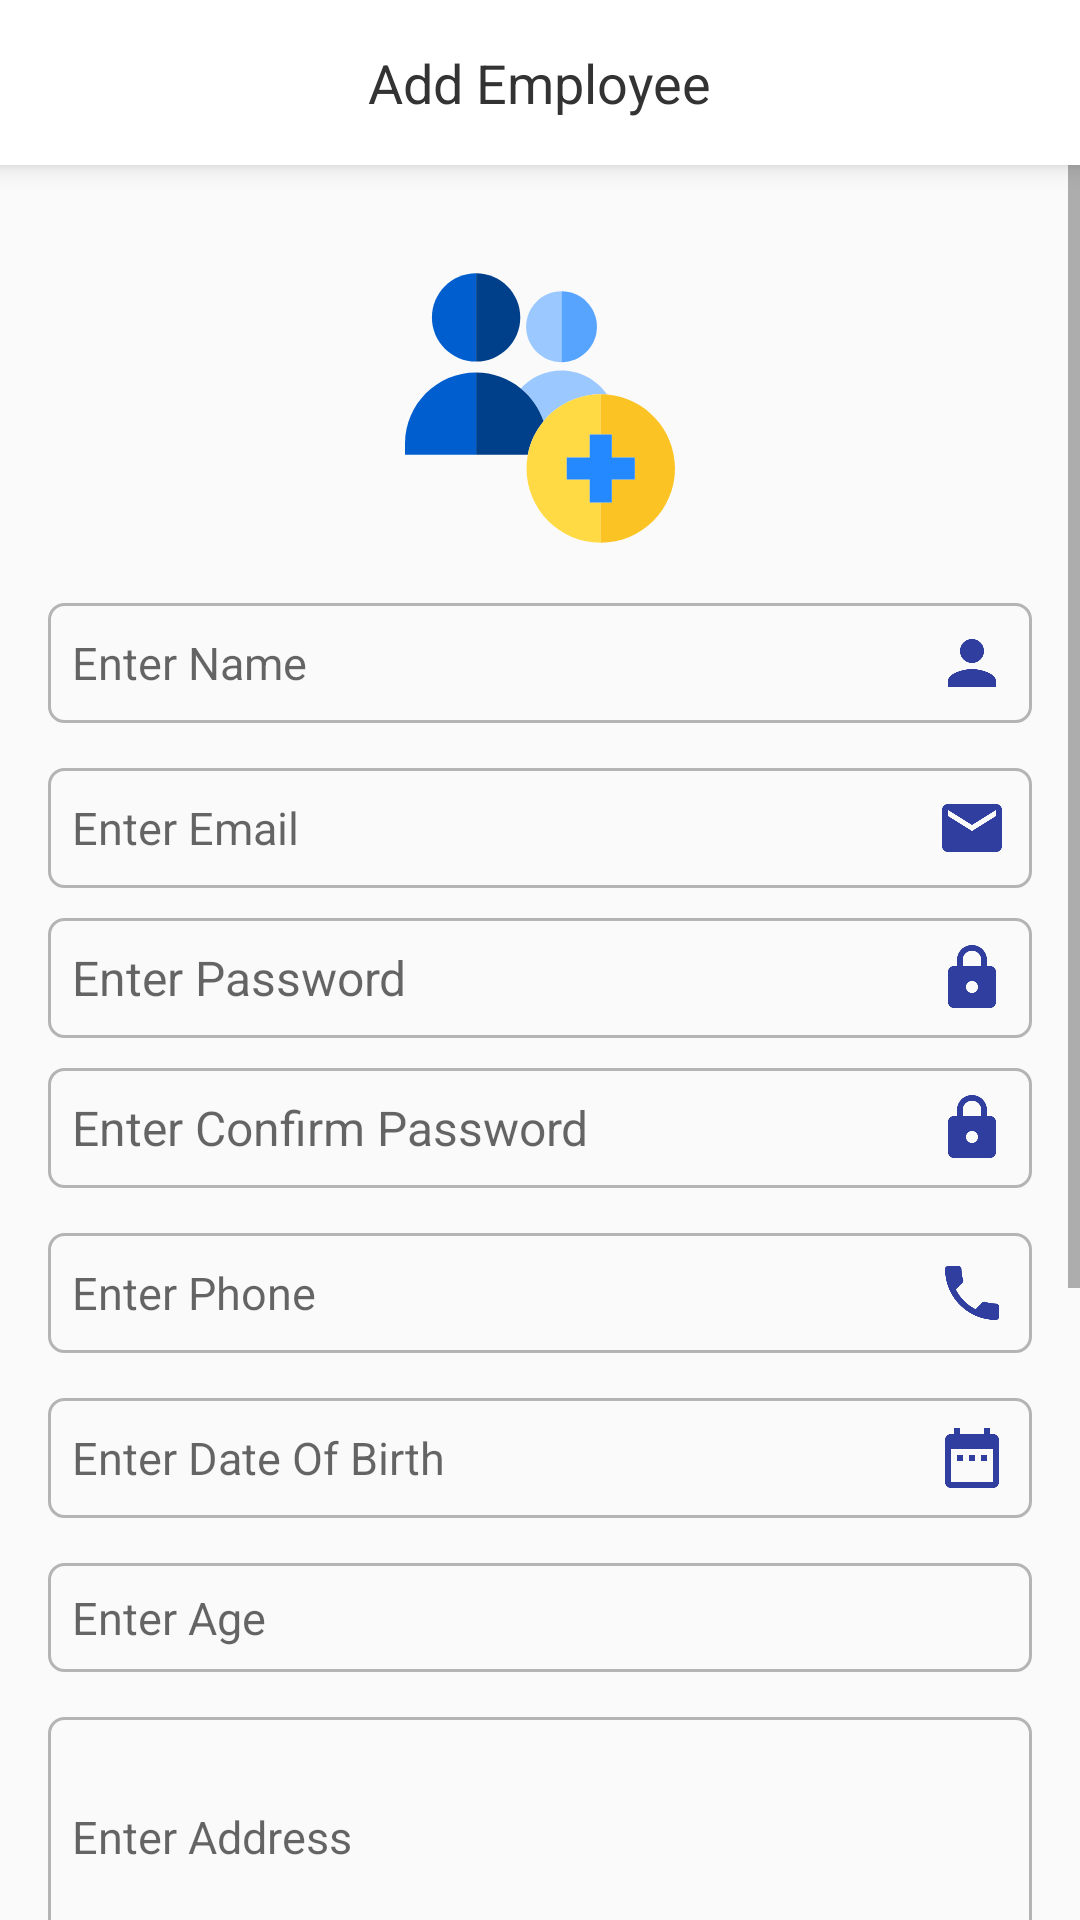

Screen size 1080×1920. Icon name, then its center in pixels as [x,y]:
add candidates: [540,408]
